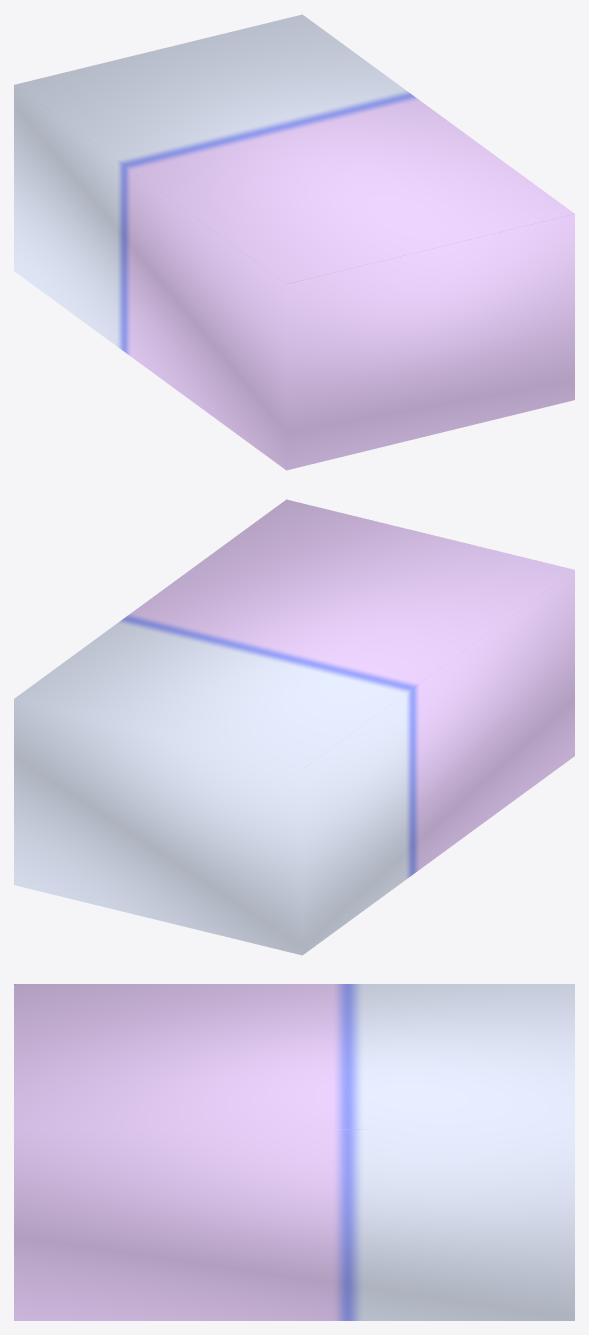
The picture shows the model from 3 angles, top to bottom: view 1: azimuth 30°, elevation 25°; view 2: azimuth 150°, elevation 25°; view 3: azimuth 270°, elevation 25°; orthographic projection. The views are drawn at different scales.
Visible parts, largest first — view 1: VR Scene; view 2: VR Scene; view 3: VR Scene.
Part boxes in pixels (x1,y1,x2,y2): VR Scene: (14,14,574,470); VR Scene: (14,499,574,955); VR Scene: (14,984,574,1320).
Size of the model in its own units: 143 by 88.46 by 235.
Materials: 1 (1 with a texture image).
